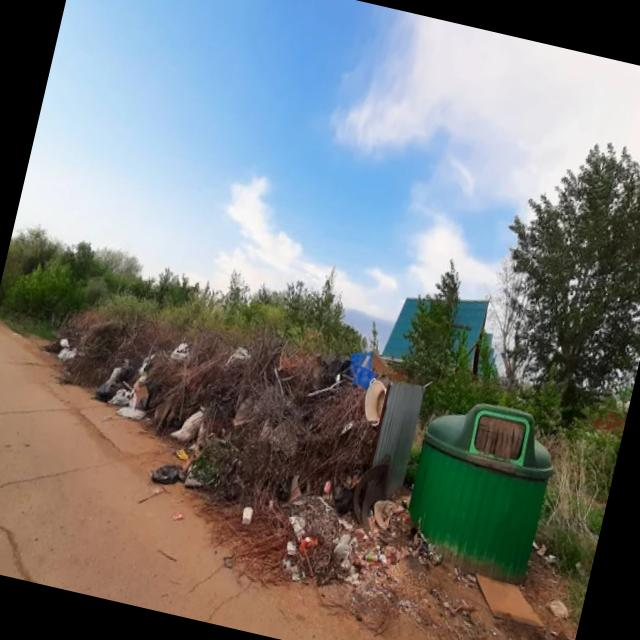garbage: (17, 286, 312, 503), (177, 421, 418, 640)
